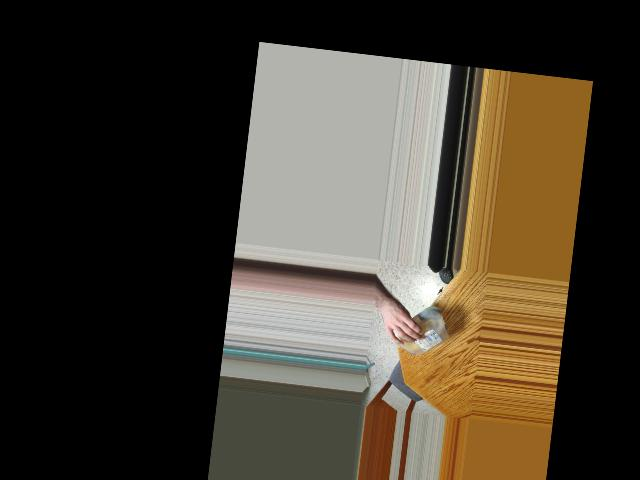cheese: (386, 302, 454, 360)
